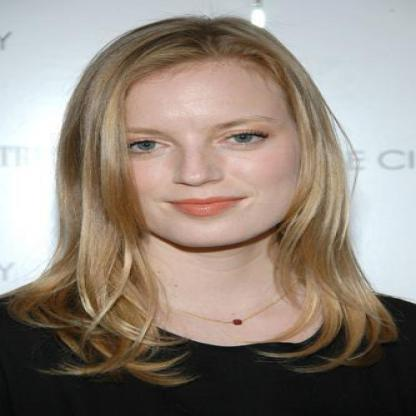long-hair: (36, 252, 372, 301)
